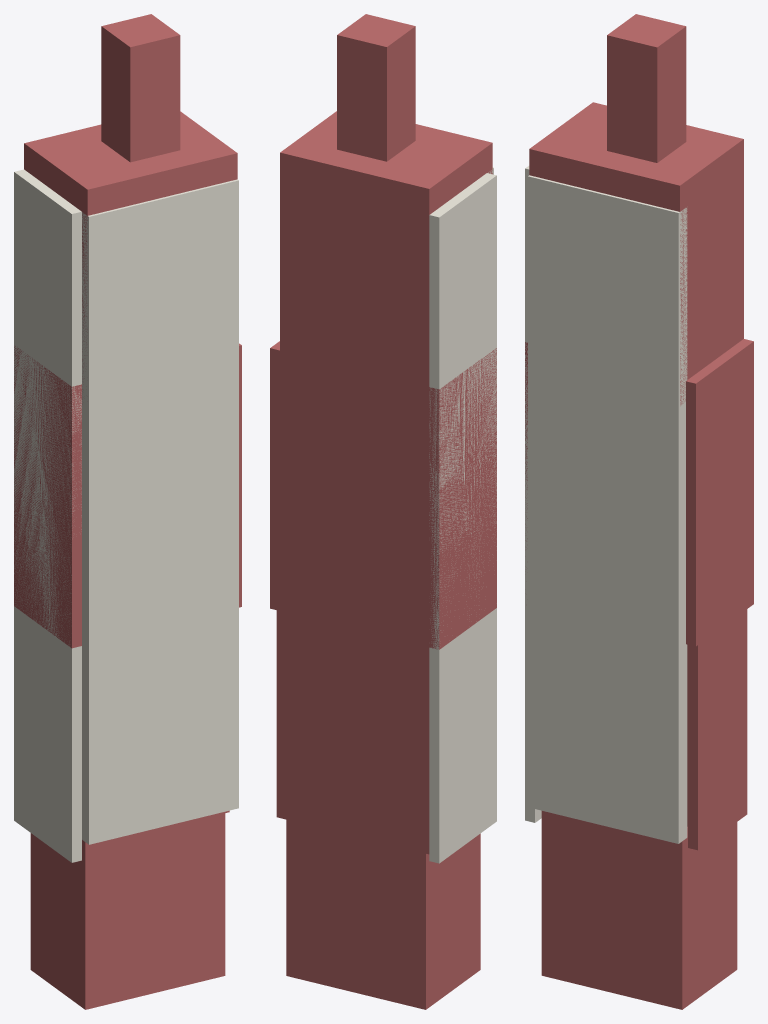
Rendered from SM_PROP_CARCASS_HALF.fbx.
The picture shows the model from 3 angles, left to right: view 1: azimuth 30°, elevation 25°; view 2: azimuth 150°, elevation 25°; view 3: azimuth 330°, elevation 25°; orthographic projection.
Parts seen in each view (by area): view 1: SM_PROP_CARCASS_HALF; view 2: SM_PROP_CARCASS_HALF; view 3: SM_PROP_CARCASS_HALF.
Boxes of the visible parts, x1,y1,x2,y2 form: SM_PROP_CARCASS_HALF: [14, 14, 241, 1009]; SM_PROP_CARCASS_HALF: [270, 14, 496, 1009]; SM_PROP_CARCASS_HALF: [525, 14, 753, 1009].
Bounding box in the file's own units: 34 × 180 × 22.5.
